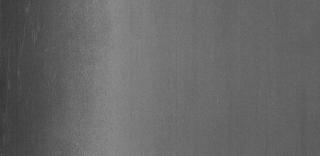silk spot: (22, 10, 46, 46)
